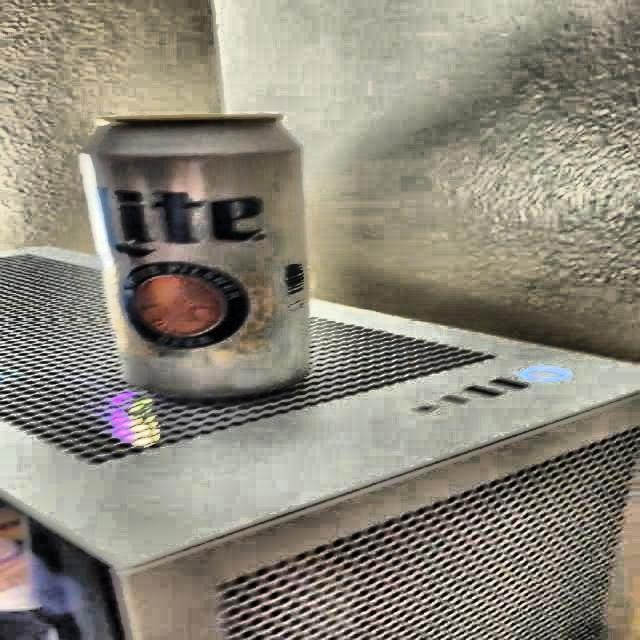can: (83, 103, 323, 405)
